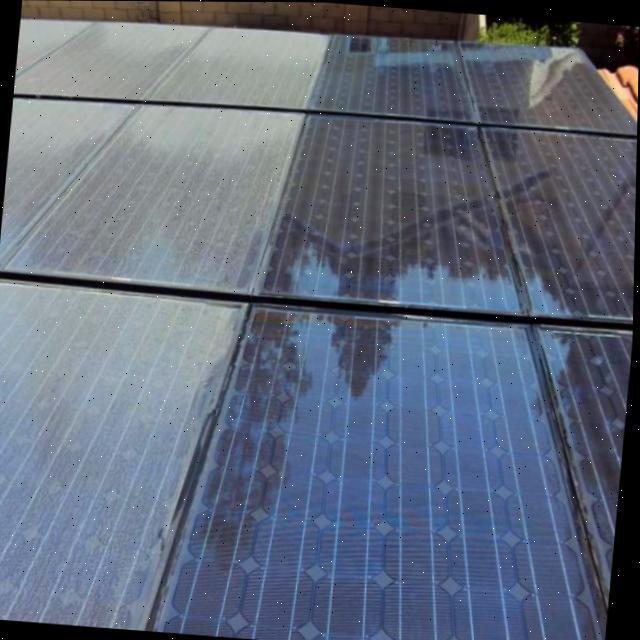Anomaly Solar Panel: (0, 18, 330, 631)
Normal Solar Panel: (158, 302, 634, 640), (255, 112, 638, 320), (311, 34, 638, 133)
Surface Contaminant: (0, 280, 245, 630), (0, 97, 303, 292), (14, 15, 331, 107)
